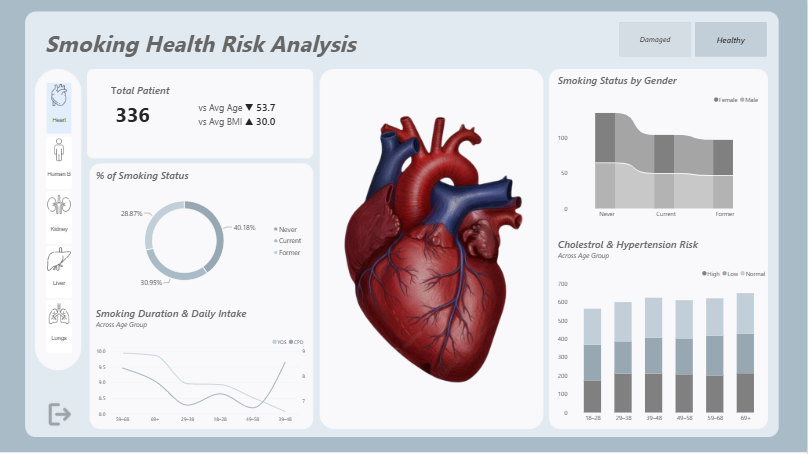

Layout of this report page (visuals, bound fields, positions):
{"tool":"powerbi","page":{"name":"Smoking Health Risk Analysis","canvas":[1920,1080],"ordinal":0},"visuals":[{"type":"cardVisual","fields":{"Data":["CountNonNull(health_dataset.Patient_ID)"]},"box":[228.6,178.6,497.6,185.7],"z":0},{"type":"textbox","box":[264.3,178.6,283.3,114.3],"z":1000},{"type":"advancedSlicerVisual","fields":{"Values":["condition.Organ_Condition"]},"box":[1473.8,52.4,352.4,83.3],"z":2000},{"type":"ChicletSlicer1448559807354","fields":{"Category":["Organs.Organ"],"Image":["Organs.Icon_URL"]},"box":[90.5,178.6,100,690.5],"z":3000},{"type":"image","box":[764.3,178.6,528.6,831],"z":4000},{"type":"donutChart","title":"% of Smoking Status","fields":{"Category":["health_dataset.Smoking_Status"],"Y":["CountNonNull(health_dataset.Smoking_Status)"]},"box":[211.9,385.7,531,328.6],"z":5000},{"type":"lineChart","title":"Smoking Duration & Daily Intake","fields":{"Category":["health_dataset.Age Group"],"Y":["Avg(health_dataset.Years_of_Smoking)"],"Y2":["Avg(health_dataset.Cigarettes_Per_Day)"]},"box":[211.9,714.3,531,311.9],"z":6000},{"type":"ribbonChart","title":"Smoking Status by Gender","fields":{"Category":["health_dataset.Smoking_Status"],"Series":["health_dataset.Gender"],"Y":["CountNonNull(health_dataset.Patient_ID)"]},"box":[1311.9,159.5,514.3,381],"z":6001},{"type":"columnChart","title":"Cholestrol & Hypertension Risk","fields":{"Category":["health_dataset.Age Group"],"Series":["health_dataset.BP_Risk"],"Y":["Avg(health_dataset.Cholesterol_Level)"]},"box":[1311.9,550,531,476.2],"z":6002},{"type":"textbox","box":[107.1,66.7,819,92.9],"z":6003}]}

Visuals, with their boxes in screenshot pixels (x1, y1, x2, y2), scaled from the page's 1920x1080 canvas onto the 808x454 screenshot:
cardVisual - CountNonNull(health_dataset.Patient_ID): left=96, top=75, right=306, bottom=153
textbox: left=111, top=75, right=230, bottom=123
advancedSlicerVisual - condition.Organ_Condition: left=620, top=22, right=769, bottom=57
ChicletSlicer1448559807354 - Organs.Organ x Organs.Icon_URL: left=38, top=75, right=80, bottom=365
image: left=322, top=75, right=544, bottom=424
"% of Smoking Status" donutChart: left=89, top=162, right=313, bottom=300
"Smoking Duration & Daily Intake" lineChart: left=89, top=300, right=313, bottom=431
"Smoking Status by Gender" ribbonChart: left=552, top=67, right=769, bottom=227
"Cholestrol & Hypertension Risk" columnChart: left=552, top=231, right=776, bottom=431
textbox: left=45, top=28, right=390, bottom=67
